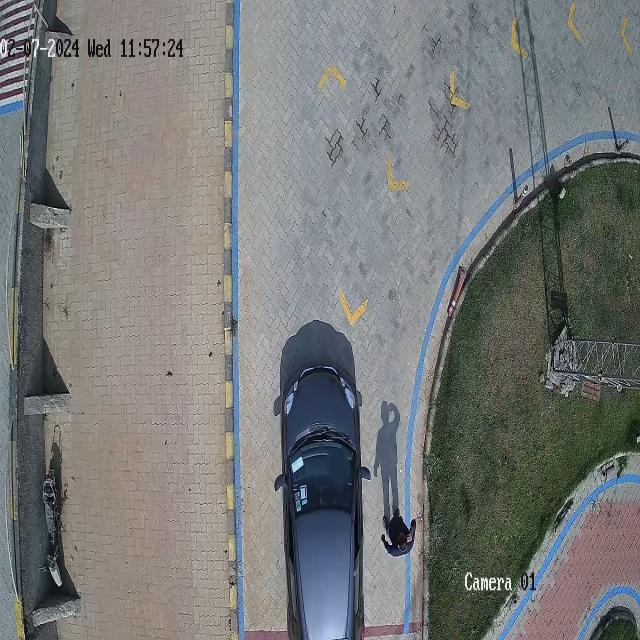car: (280, 363, 365, 640)
